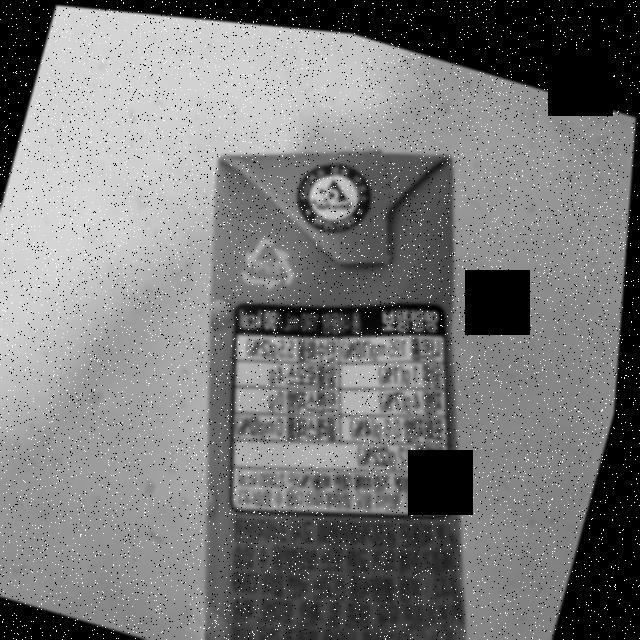SterilizedPack: (230, 215, 314, 302)
